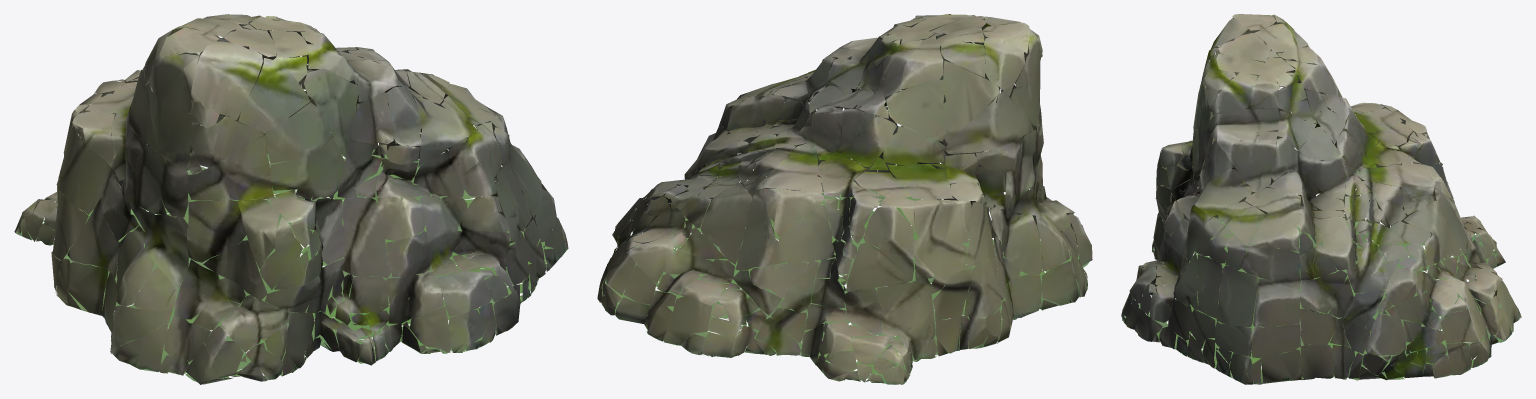
File: formation-a.glb
The picture shows the model from 3 angles, left to right: view 1: azimuth 30°, elevation 25°; view 2: azimuth 150°, elevation 25°; view 3: azimuth 270°, elevation 25°; orthographic projection. The views are drawn at different scales.
Visible parts, largest first — view 1: Mesh_0; view 2: Mesh_0; view 3: Mesh_0.
Boxes of the visible parts, bbox=[...] form: Mesh_0: bbox=[14, 14, 568, 384]; Mesh_0: bbox=[597, 14, 1092, 384]; Mesh_0: bbox=[1121, 14, 1521, 384].
Size of the model in its own units: 4.01 by 2.52 by 3.96.
Materials: 1 (1 with a texture image).
